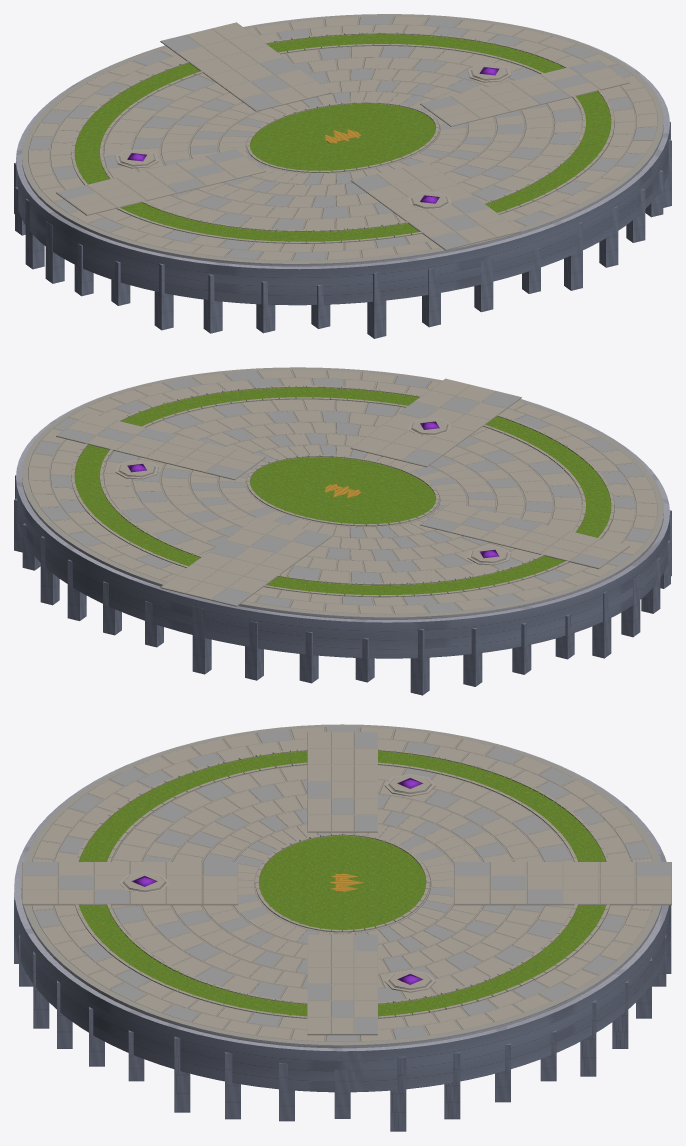
Rendered from high_crown_arena_refined.obj.
3 renders of one model, top to bottom at view 1: azimuth 30°, elevation 25°; view 2: azimuth 150°, elevation 25°; view 3: azimuth 270°, elevation 25°, orthographic. The views are drawn at different scales.
Visible parts, largest first — view 1: high_crown_arena; view 2: high_crown_arena; view 3: high_crown_arena.
Boxes of the visible parts, bbox=[...] form: high_crown_arena: bbox=[14, 14, 671, 338]; high_crown_arena: bbox=[14, 367, 671, 695]; high_crown_arena: bbox=[14, 724, 671, 1131].
Size of the model in its own units: 80.04 by 10.51 by 68.12.
Materials: 15 (7 with a texture image).
